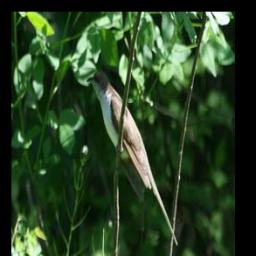Cuckoo: (87, 69, 179, 248)
